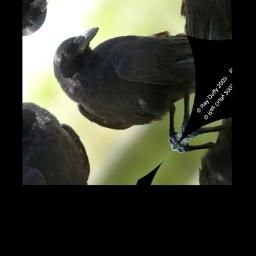Crow: (36, 0, 231, 179)
